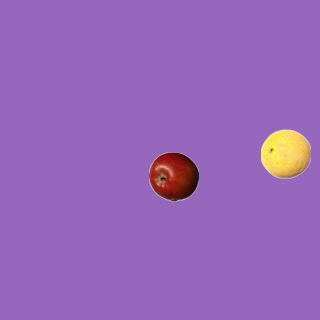Apple Braeburn: (148, 151, 198, 201)
Cantaloupe 1: (260, 128, 310, 178)
